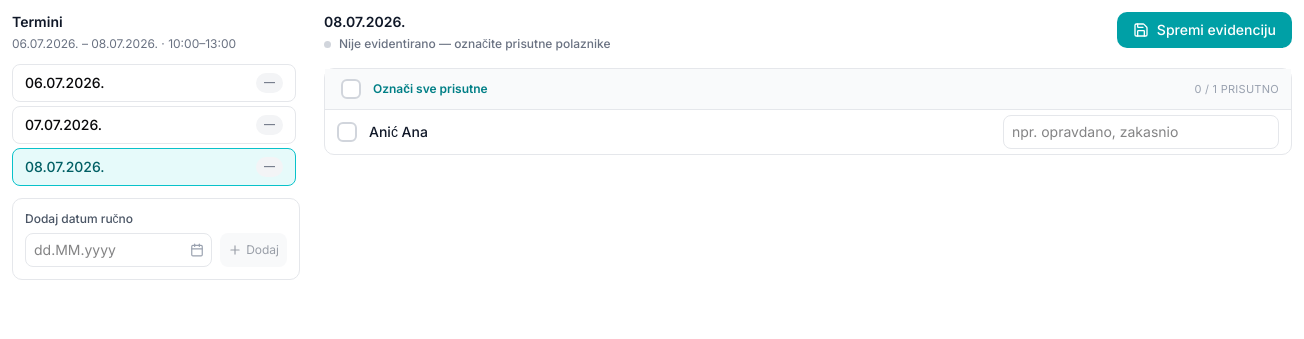
Test: AttendanceMarker — hand-added dates survive a remount › flat branch: the date is back after unmount + remount
The image size is (1304, 339).
Type "15.07.2026" into the field labelled "Dodaj datum ručno".
click(119, 250); type("15.07.2026")  # box [25,233,212,267]
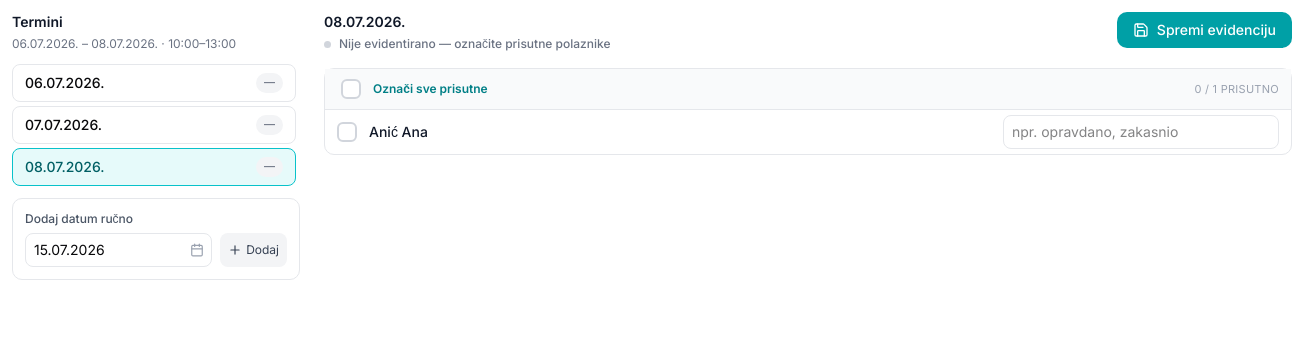
Click the button "Dodaj".
click(254, 250)  # box [220,233,287,267]
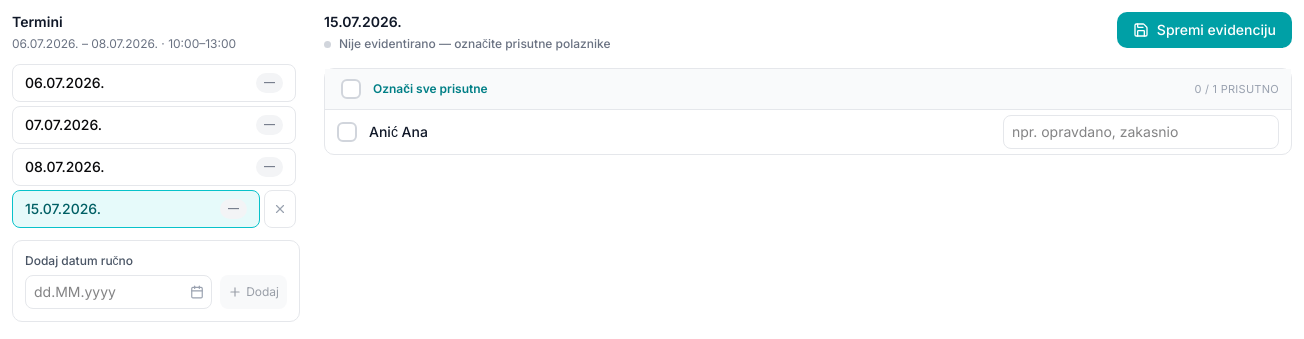
Expected: the text "15.07.2026." is shown, [25,200,101,217]
